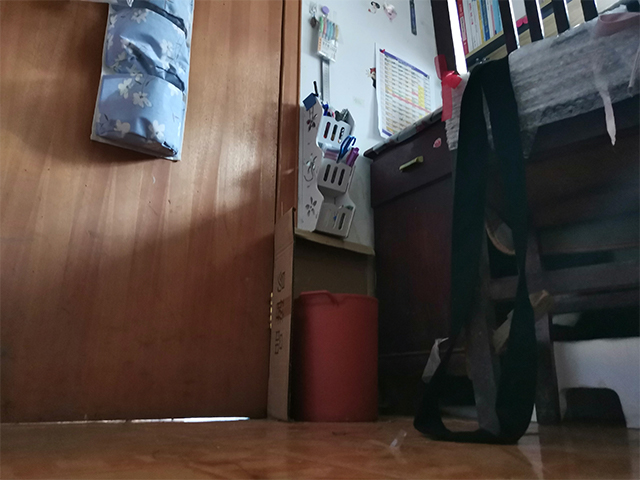cabinet: (358, 13, 640, 426)
stool: (424, 1, 640, 442)
trashcan: (291, 290, 381, 424)
